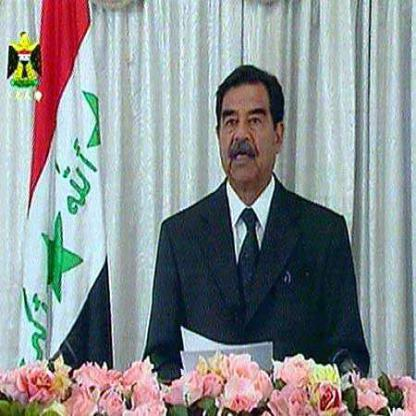face: (219, 76, 280, 187)
